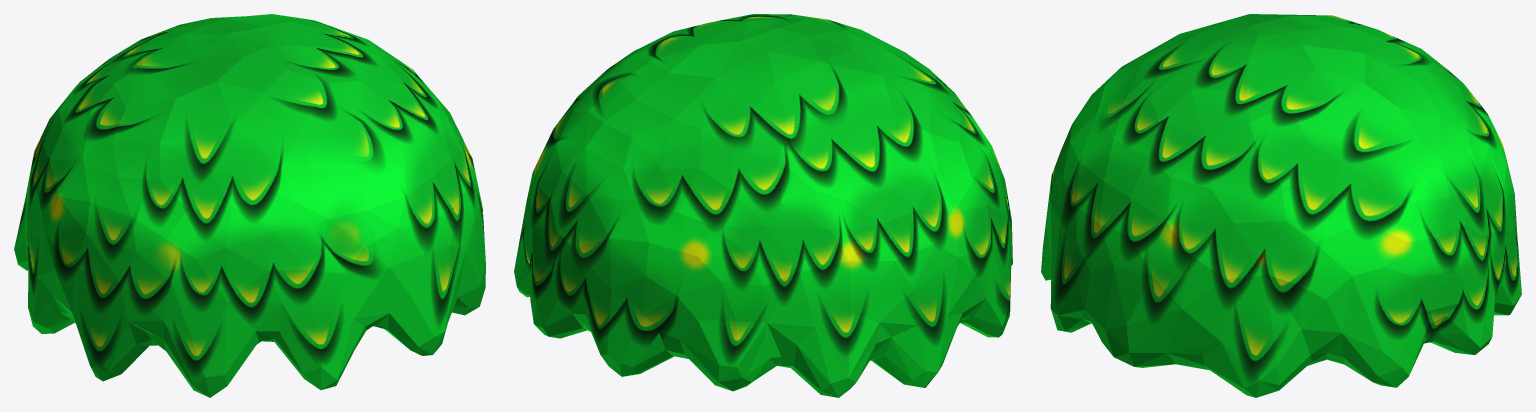
File: bush2.glb
The picture shows the model from 3 angles, left to right: view 1: azimuth 30°, elevation 25°; view 2: azimuth 150°, elevation 25°; view 3: azimuth 270°, elevation 25°; orthographic projection. The views are drawn at different scales.
Visible parts, largest first — view 1: Cube; view 2: Cube; view 3: Cube.
Part boxes in pixels (bbox=[...]): Cube: bbox=[14, 14, 485, 397]; Cube: bbox=[514, 14, 1012, 397]; Cube: bbox=[1041, 14, 1521, 397].
Bounding box in the file's own units: 1.7 × 1.1 × 1.7.
1 material, 1 textured.
